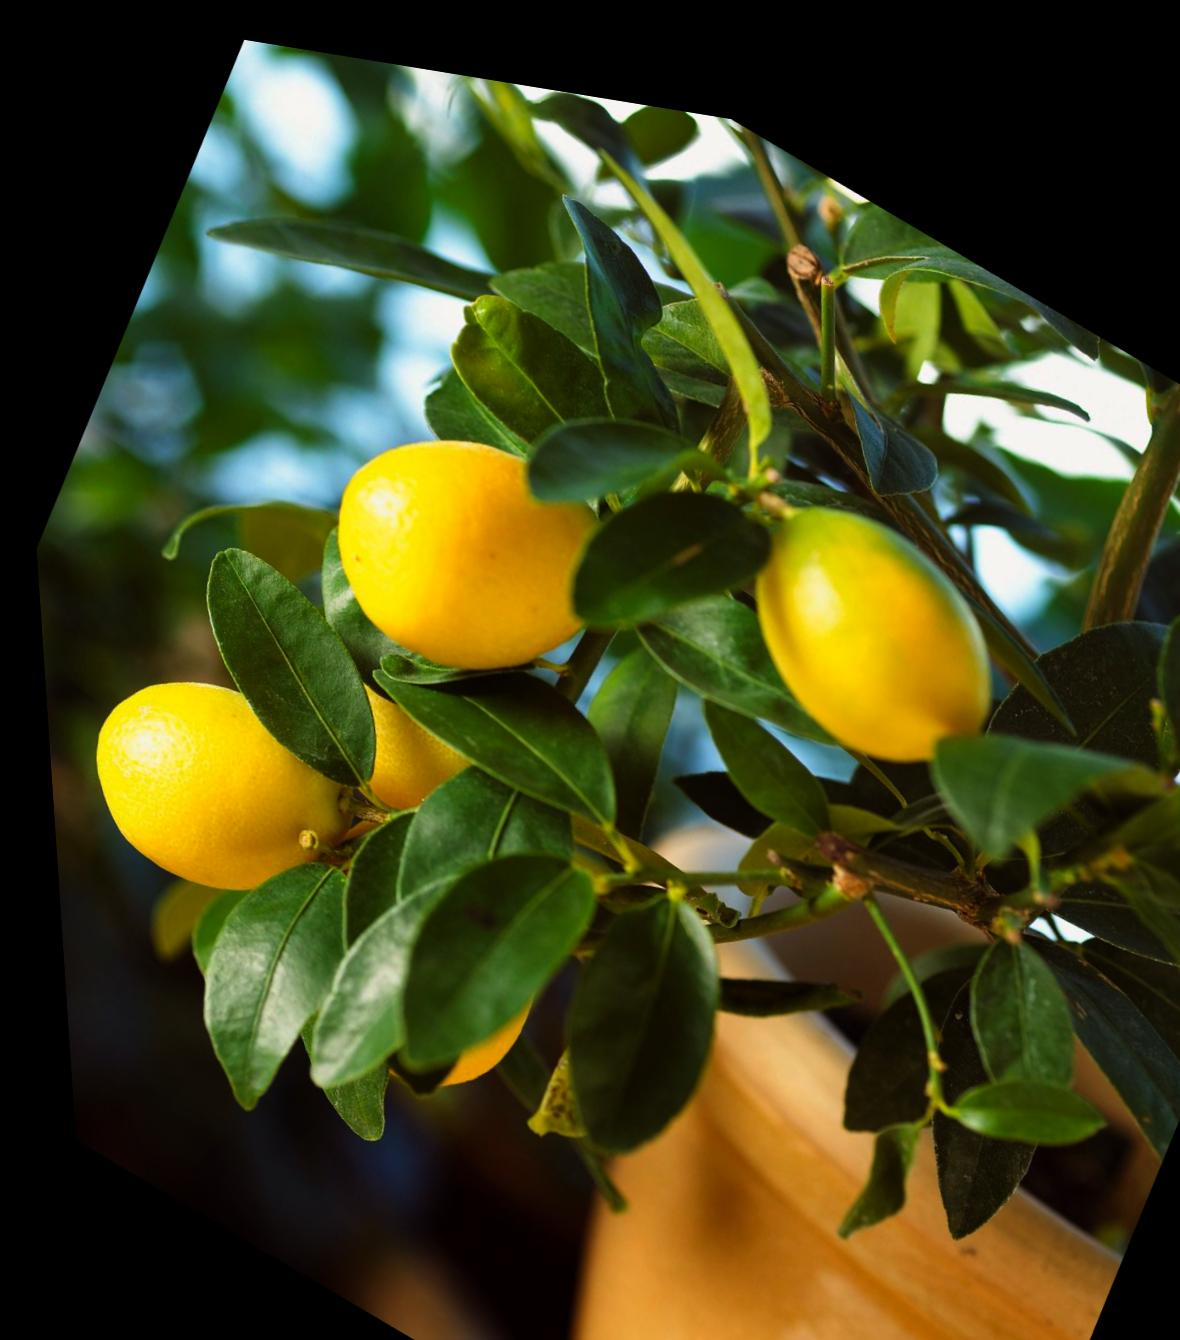Healthy Citrus: (132, 804, 382, 1147), (513, 835, 757, 1182), (361, 781, 607, 1114), (147, 520, 428, 798), (964, 882, 1180, 1126), (872, 179, 1111, 334), (928, 1002, 1111, 1171), (806, 354, 952, 492), (1124, 522, 1180, 732)
